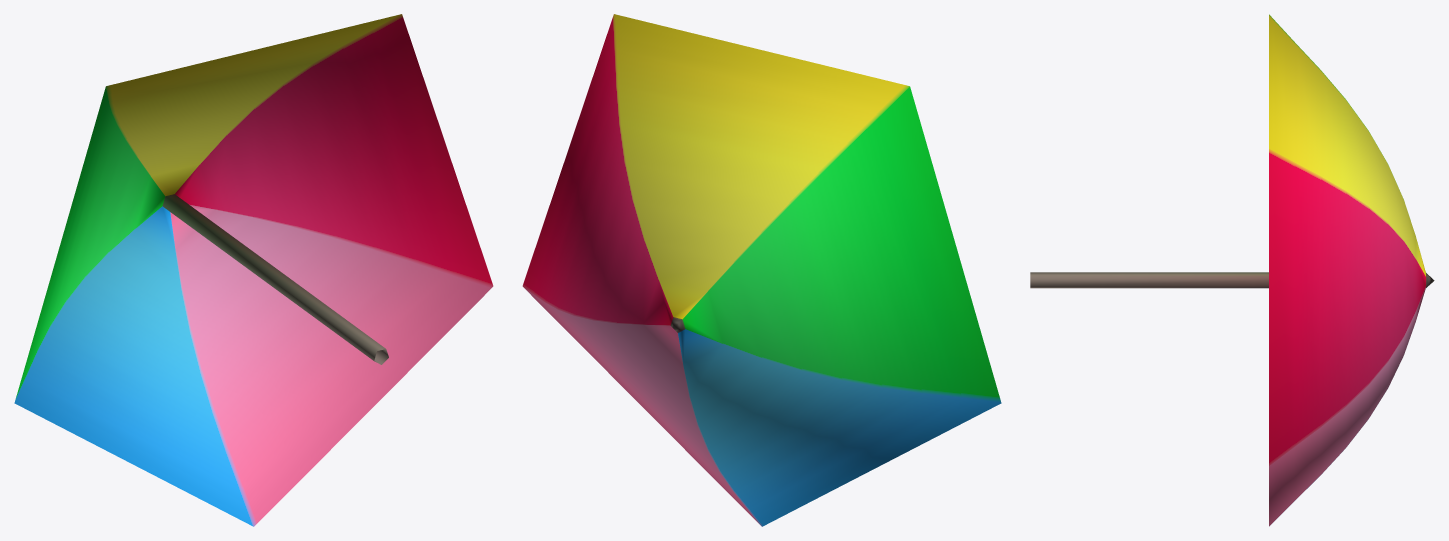
The model's file is Parasol.fbx.
The picture shows the model from 3 angles, left to right: view 1: azimuth 30°, elevation 25°; view 2: azimuth 150°, elevation 25°; view 3: azimuth 270°, elevation 25°; orthographic projection. The views are drawn at different scales.
Parts seen in each view (by area): view 1: Parasol001; view 2: Parasol001; view 3: Parasol001.
Part boxes in pixels (bbox=[...]): Parasol001: bbox=[14, 14, 493, 526]; Parasol001: bbox=[522, 14, 1001, 526]; Parasol001: bbox=[1030, 14, 1434, 526].
Bounding box in the file's own units: 324 × 308 × 253.
1 material, 1 textured.
